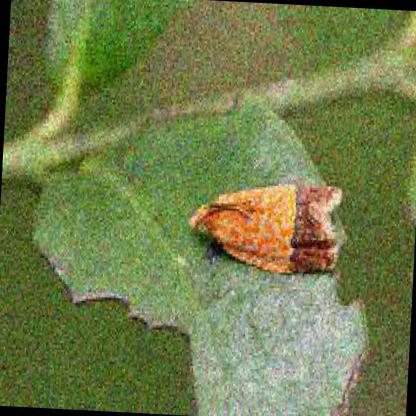Leaf Webber: (189, 185, 345, 283)
